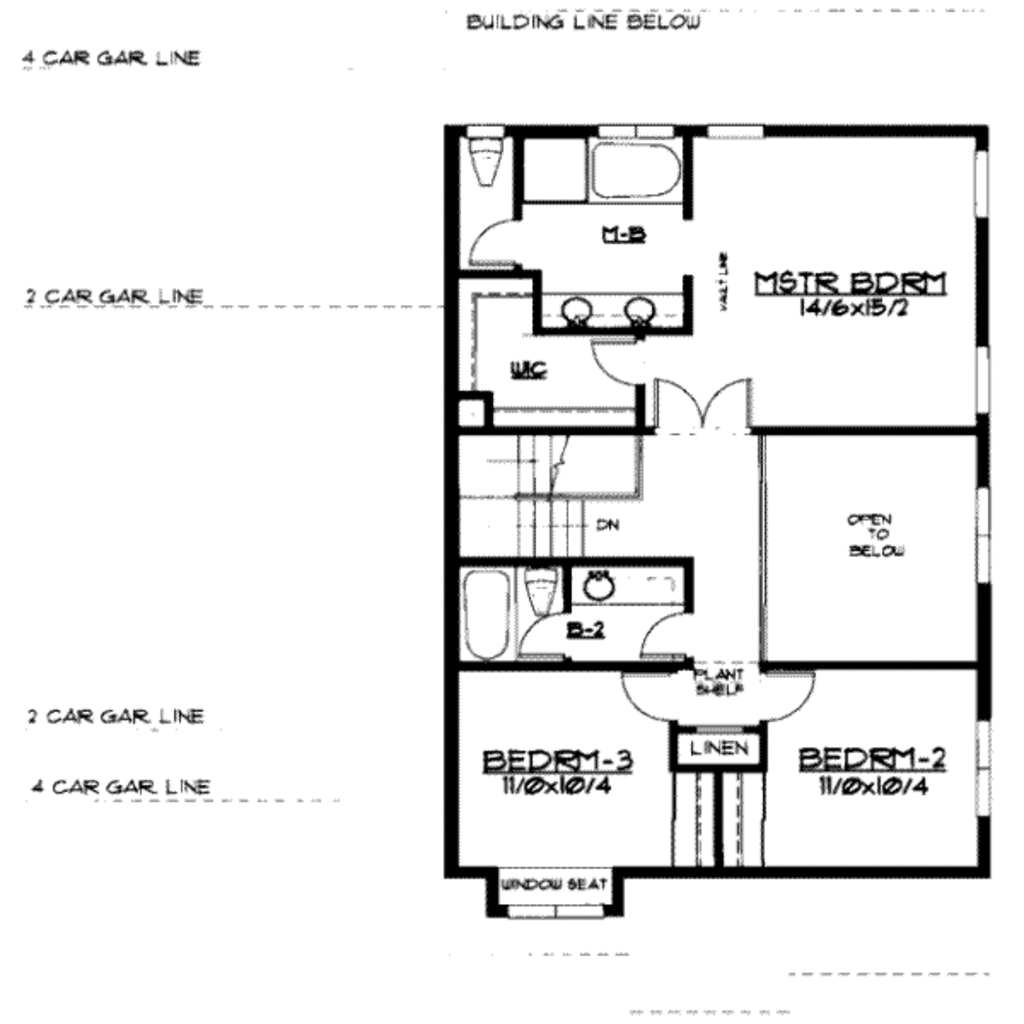door: (636, 374, 759, 440), (761, 664, 823, 725), (618, 670, 677, 732), (462, 212, 531, 264), (586, 336, 638, 388), (638, 608, 693, 657), (518, 614, 569, 660)
large_sink: (467, 128, 516, 191)
small_sink: (541, 290, 676, 328), (571, 566, 692, 607)
stairs: (459, 435, 649, 561)
tub: (591, 140, 687, 207), (457, 566, 521, 661)
window: (972, 486, 997, 585), (967, 145, 997, 225), (705, 115, 770, 144), (598, 120, 681, 142), (975, 718, 992, 819), (974, 344, 996, 420)
